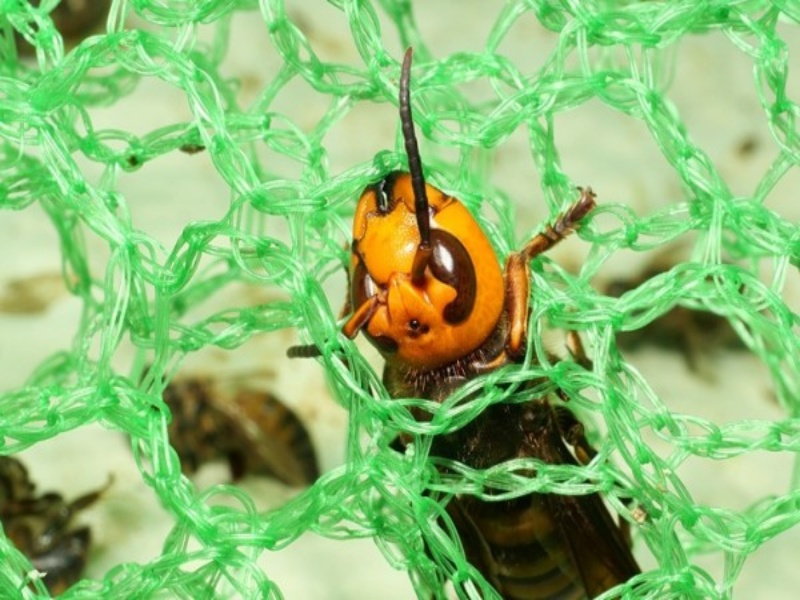asian_giant_hornet: (315, 51, 652, 600), (131, 358, 320, 504), (1, 426, 121, 597)
